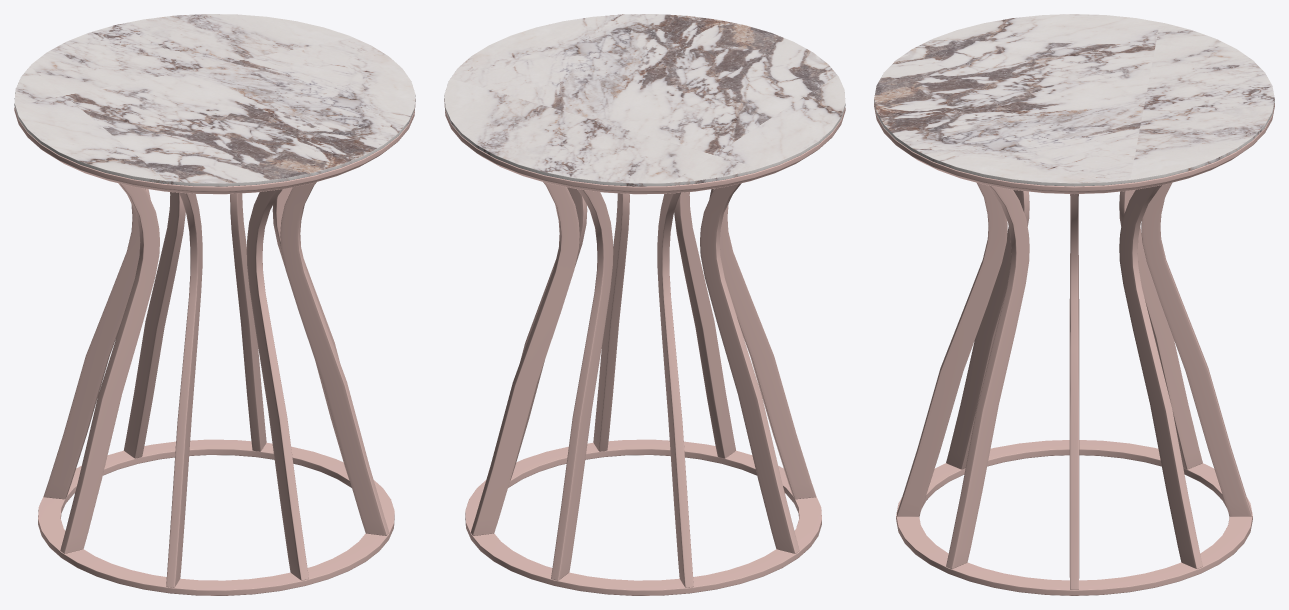
Rendered from SBH_SPIN_C.glb.
The picture shows the model from 3 angles, left to right: view 1: azimuth 30°, elevation 25°; view 2: azimuth 150°, elevation 25°; view 3: azimuth 270°, elevation 25°; orthographic projection.
Parts seen in each view (by area): view 1: SPIN_C; view 2: SPIN_C; view 3: SPIN_C.
Part boxes in pixels (bbox=[...]): SPIN_C: bbox=[14, 14, 415, 595]; SPIN_C: bbox=[444, 14, 845, 595]; SPIN_C: bbox=[874, 14, 1274, 595].
Size of the model in its own units: 0.4519 by 0.5248 by 0.4519.
2 materials, 1 textured.
